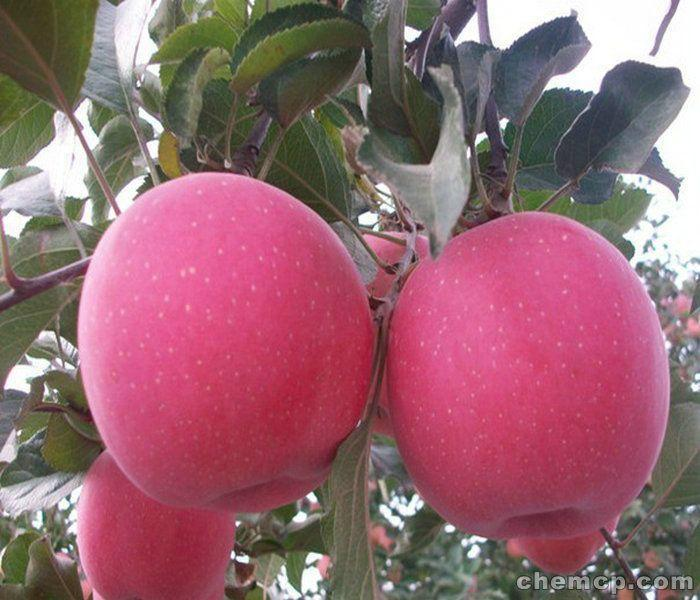apple: (77, 175, 374, 516), (388, 209, 670, 541), (77, 449, 235, 599)
